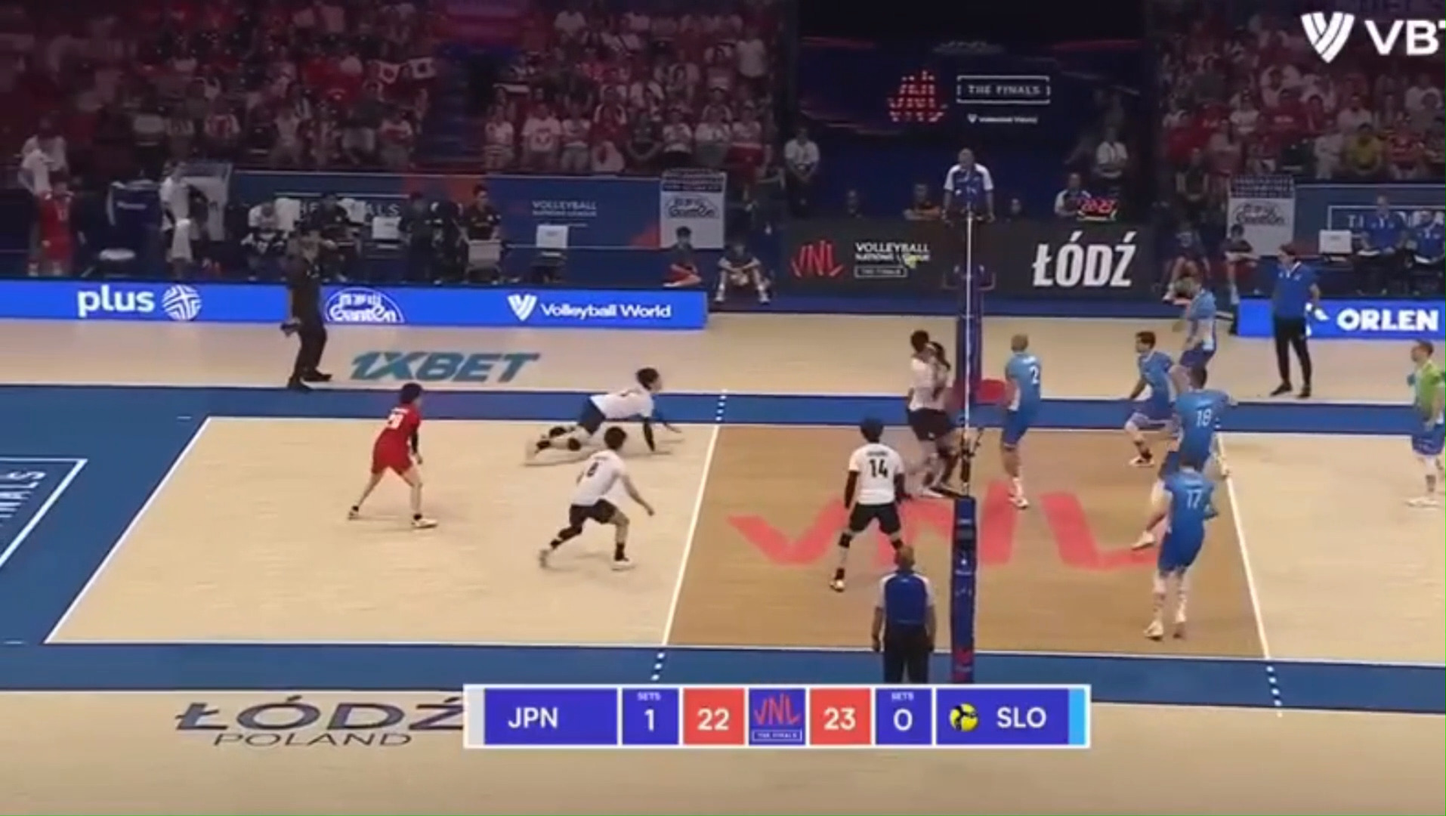ball: (901, 252, 922, 268)
player: (1136, 459, 1214, 640), (1151, 363, 1234, 502), (1000, 333, 1042, 508), (1123, 330, 1177, 466), (1407, 340, 1445, 506), (1179, 274, 1217, 368)
player 1: (539, 426, 653, 565), (830, 419, 906, 592), (349, 382, 435, 528), (528, 367, 662, 456), (929, 342, 978, 493), (906, 330, 951, 487)
referee: (871, 545, 936, 683), (941, 148, 993, 301), (282, 230, 331, 391), (1271, 244, 1319, 398)
